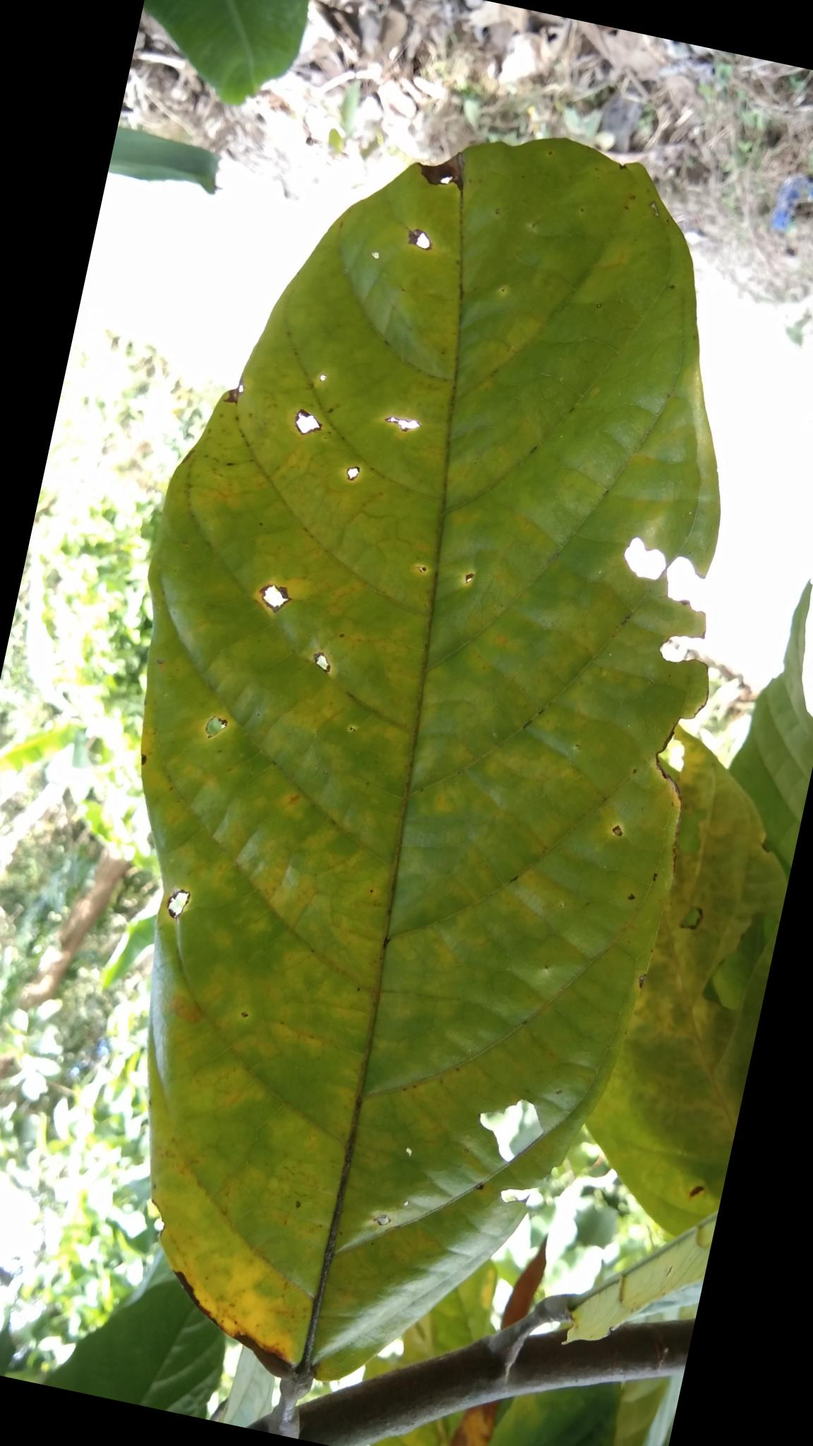Fosforo: (129, 133, 713, 1389)
